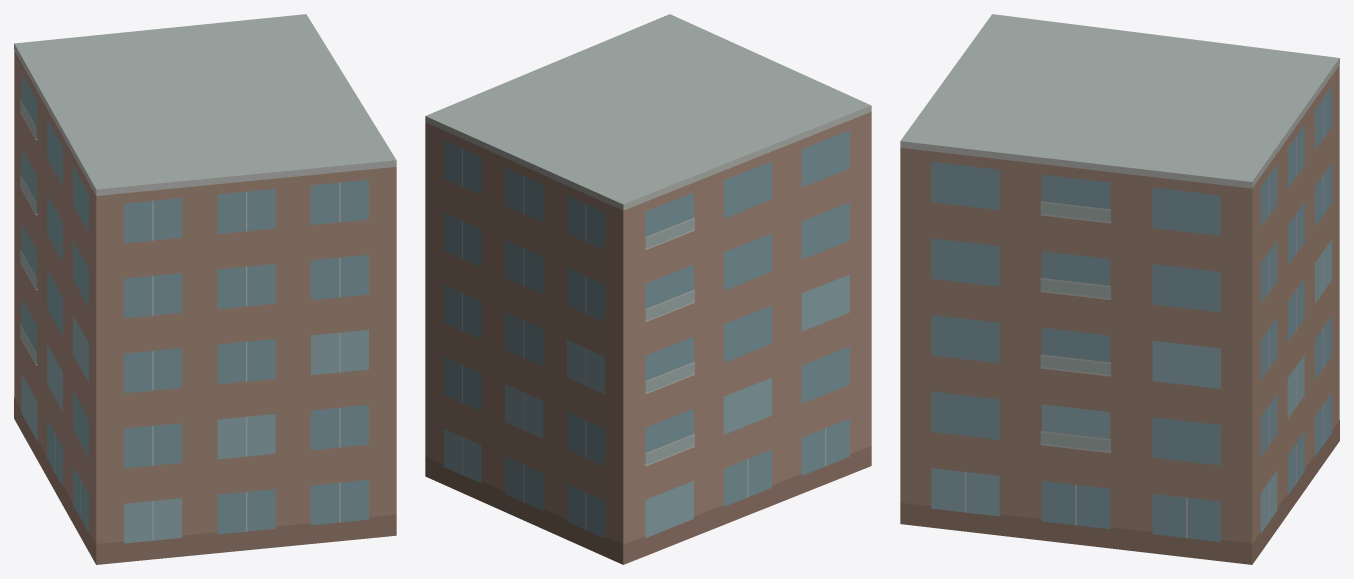
File: survey-upis-33032597.glb
3 renders of one model, left to right at view 1: azimuth 30°, elevation 25°; view 2: azimuth 150°, elevation 25°; view 3: azimuth 270°, elevation 25°, orthographic. The views are drawn at different scales.
Visible parts, largest first — view 1: survey-upis-33032597.tmp; view 2: survey-upis-33032597.tmp; view 3: survey-upis-33032597.tmp.
Part boxes in pixels (box(x1,y1,x2,y2)): survey-upis-33032597.tmp: box(14, 14, 396, 564); survey-upis-33032597.tmp: box(425, 14, 871, 564); survey-upis-33032597.tmp: box(900, 14, 1339, 564).
Size of the model in its own units: 13.42 by 14.25 by 14.84.
